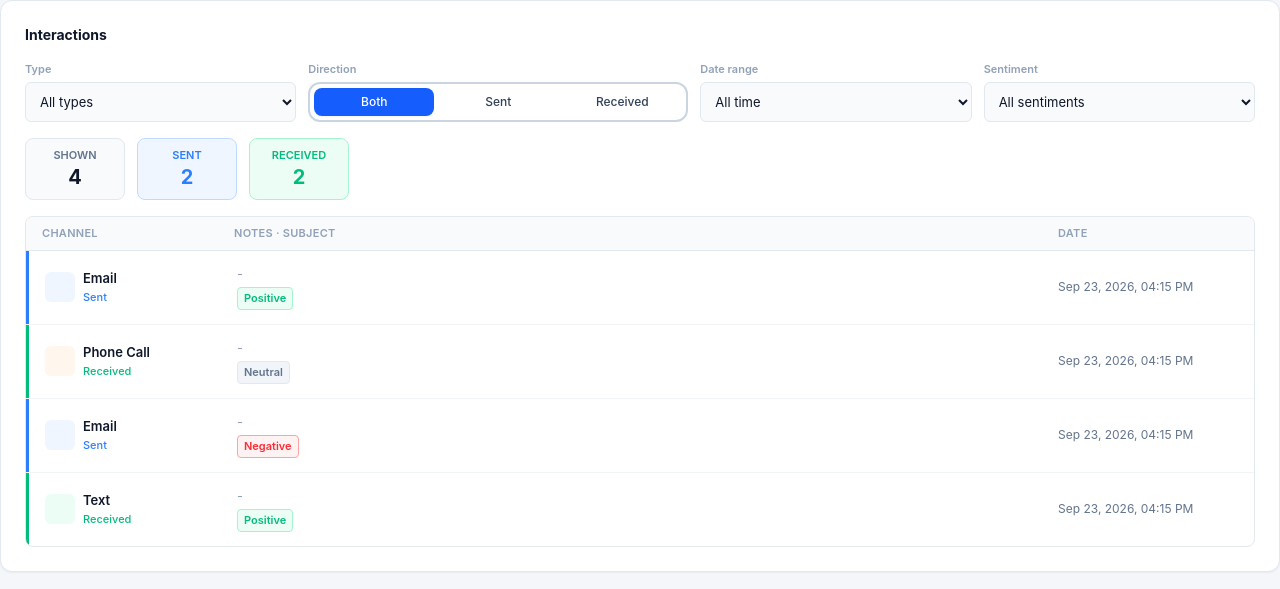
Test: CoachInteractionsTable › narrows rows via the Sentiment filter
Note: Type, Date range, Sentiment selects appear in that DOM order.
Select "Positive" in the dropdown below "Sentiment" at (1119, 102), box 984,82 -> 1255,122
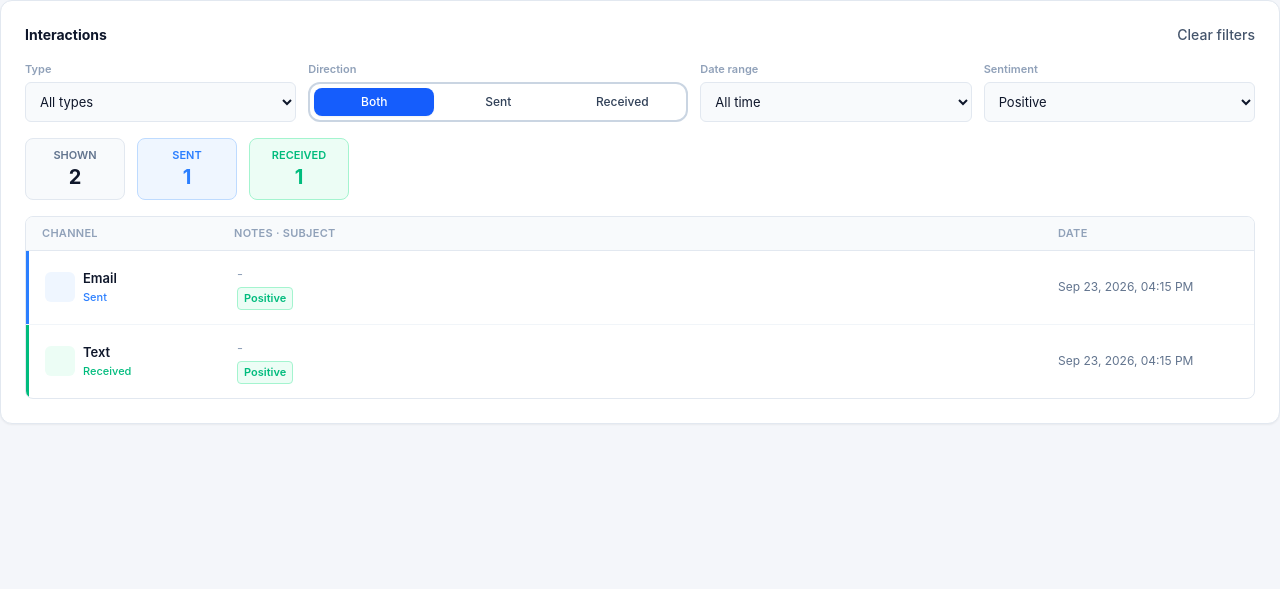
Now the number of list items is 2, box 26,250 -> 1254,324; 26,324 -> 1254,398
